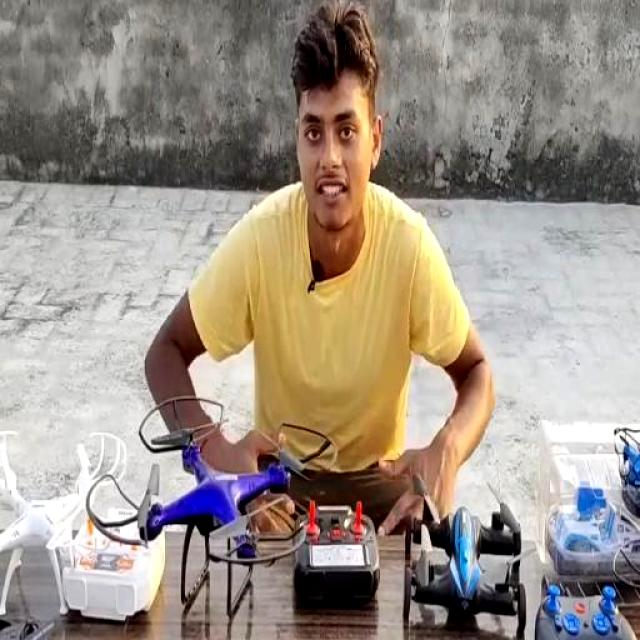bird: (90, 389, 332, 628), (0, 420, 126, 621), (395, 482, 531, 638), (605, 404, 640, 492)
